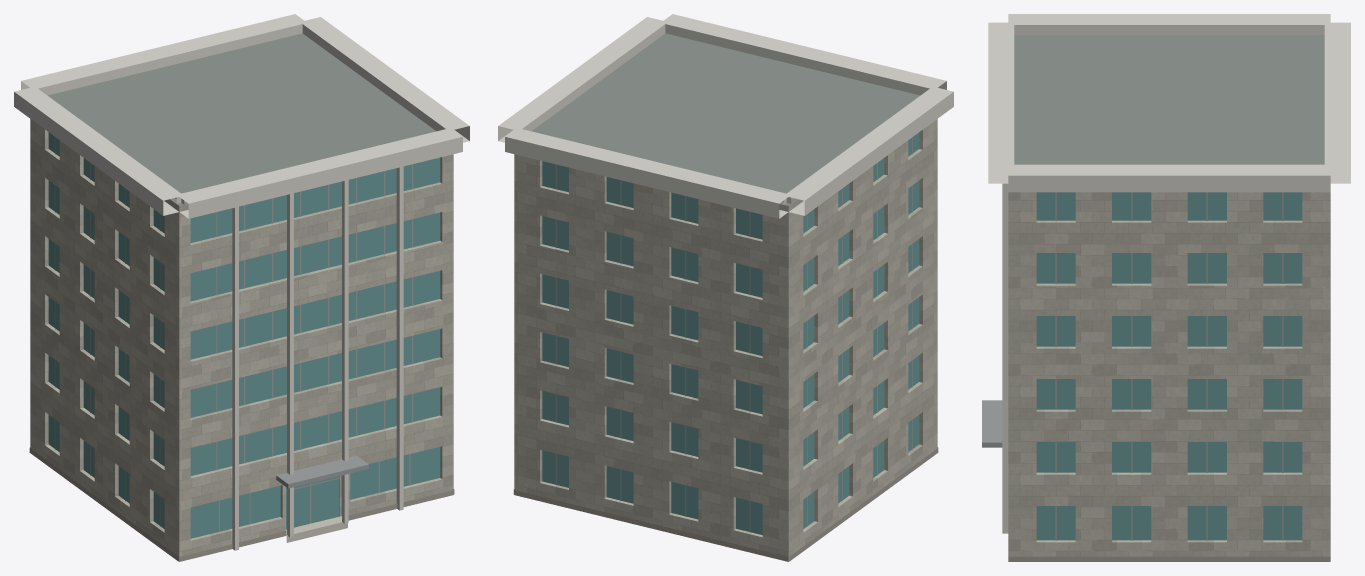
The picture shows the model from 3 angles, left to right: view 1: azimuth 30°, elevation 25°; view 2: azimuth 150°, elevation 25°; view 3: azimuth 270°, elevation 25°; orthographic projection. The views are drawn at different scales.
Parts seen in each view (by area): view 1: wisdom__wall, wisdom__glass, wisdom__roof, wisdom__trim, wisdom__frame, wisdom__base, wisdom__canopy, wisdom__entranceThreshold_0; view 2: wisdom__wall, wisdom__roof, wisdom__glass, wisdom__trim, wisdom__base, wisdom__frame; view 3: wisdom__wall, wisdom__roof, wisdom__glass, wisdom__trim, wisdom__base, wisdom__frame, wisdom__canopy.
Part boxes in pixels (bbox=[...]): wisdom__wall: bbox=[30, 119, 453, 561]; wisdom__glass: bbox=[48, 132, 440, 538]; wisdom__roof: bbox=[47, 33, 435, 561]; wisdom__trim: bbox=[14, 14, 469, 550]; wisdom__frame: bbox=[55, 137, 413, 531]; wisdom__base: bbox=[29, 447, 454, 561]; wisdom__canopy: bbox=[276, 455, 368, 488]; wisdom__entranceThreshold_0: bbox=[286, 516, 347, 542]; wisdom__wall: bbox=[514, 119, 937, 561]; wisdom__roof: bbox=[532, 33, 920, 561]; wisdom__glass: bbox=[542, 132, 919, 534]; wisdom__trim: bbox=[498, 14, 953, 218]; wisdom__base: bbox=[513, 447, 938, 561]; wisdom__frame: bbox=[555, 137, 912, 532]; wisdom__wall: bbox=[1008, 192, 1330, 556]; wisdom__roof: bbox=[1014, 35, 1324, 164]; wisdom__glass: bbox=[1036, 192, 1302, 540]; wisdom__trim: bbox=[988, 14, 1350, 533]; wisdom__base: bbox=[1008, 556, 1330, 561]; wisdom__frame: bbox=[1055, 192, 1283, 540]; wisdom__canopy: bbox=[982, 400, 1002, 447].
Bounding box in the file's own units: 19 × 22 × 18.3.
9 materials, 1 textured.
